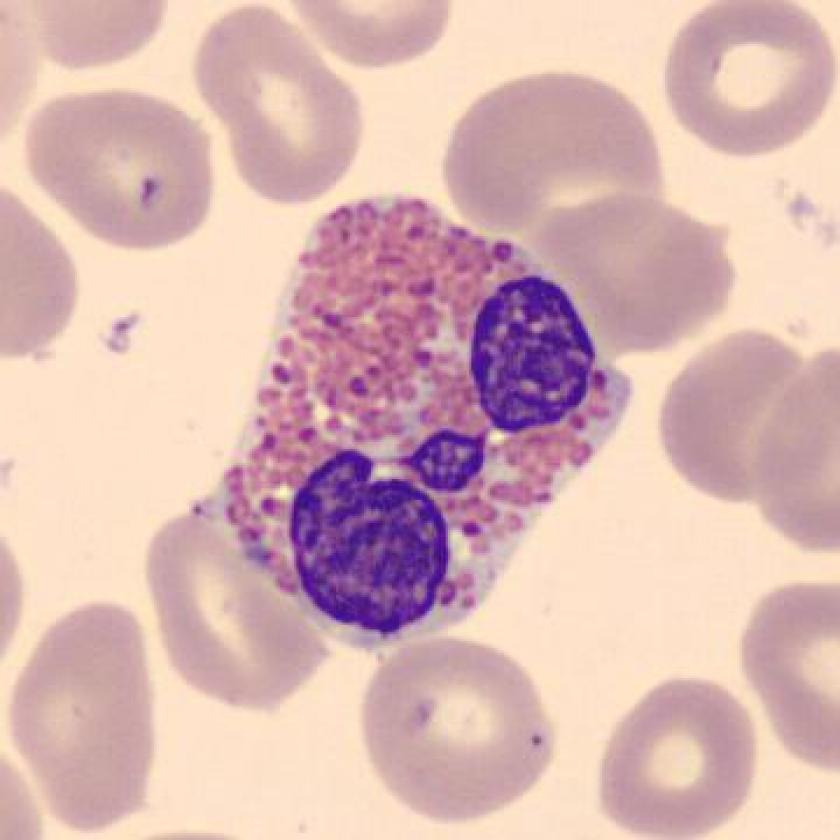eosinophil: (204, 186, 638, 649)
